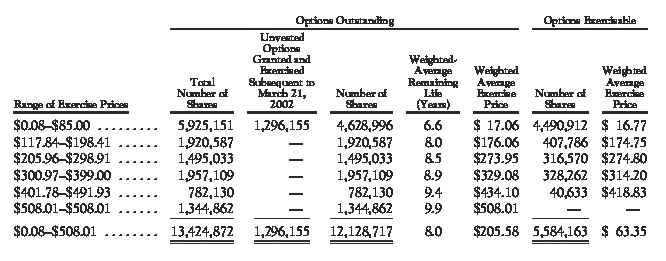table: (0, 0, 666, 261)
